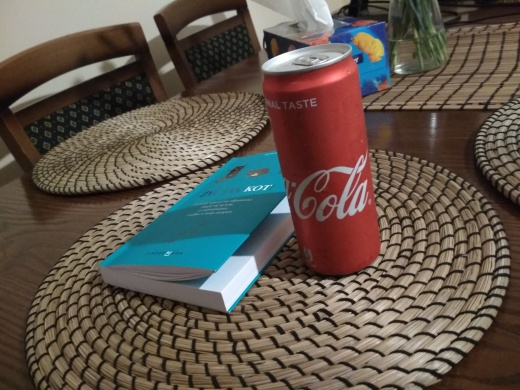cola: (256, 38, 395, 277)
